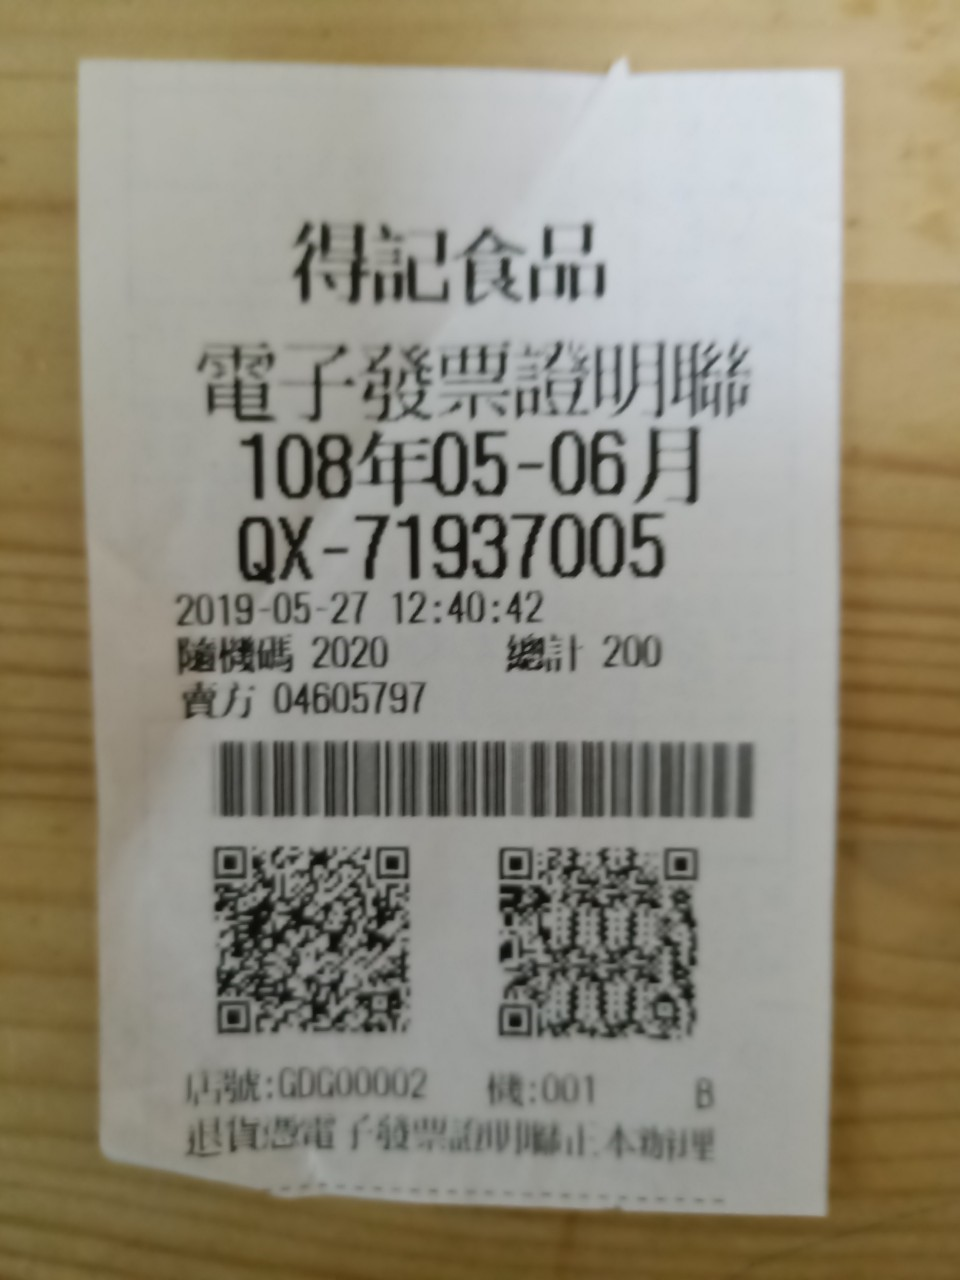Date_New: (240, 427, 703, 507)
Number_New: (350, 507, 673, 578)
